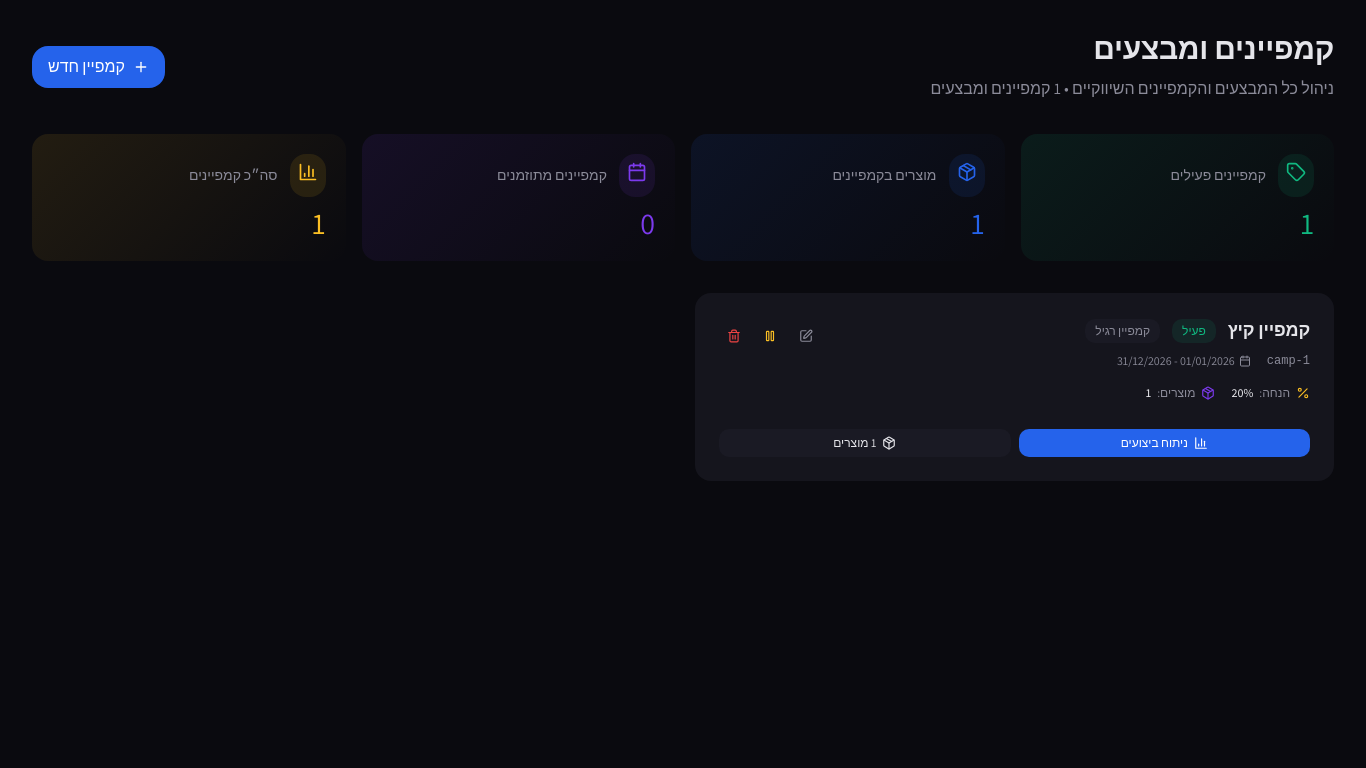
AdminCampaignsPage — Analytics modal (real, server-derived) › shows an error state when the analytics request fails
Expected: the heading "קמפיין קיץ" is shown, [1228, 317, 1310, 345]
What coordinates should you click on to do the following:
click the button "ניתוח ביצועים"
I would click on:
 (1164, 443)
Its box is [1018, 429, 1310, 457].
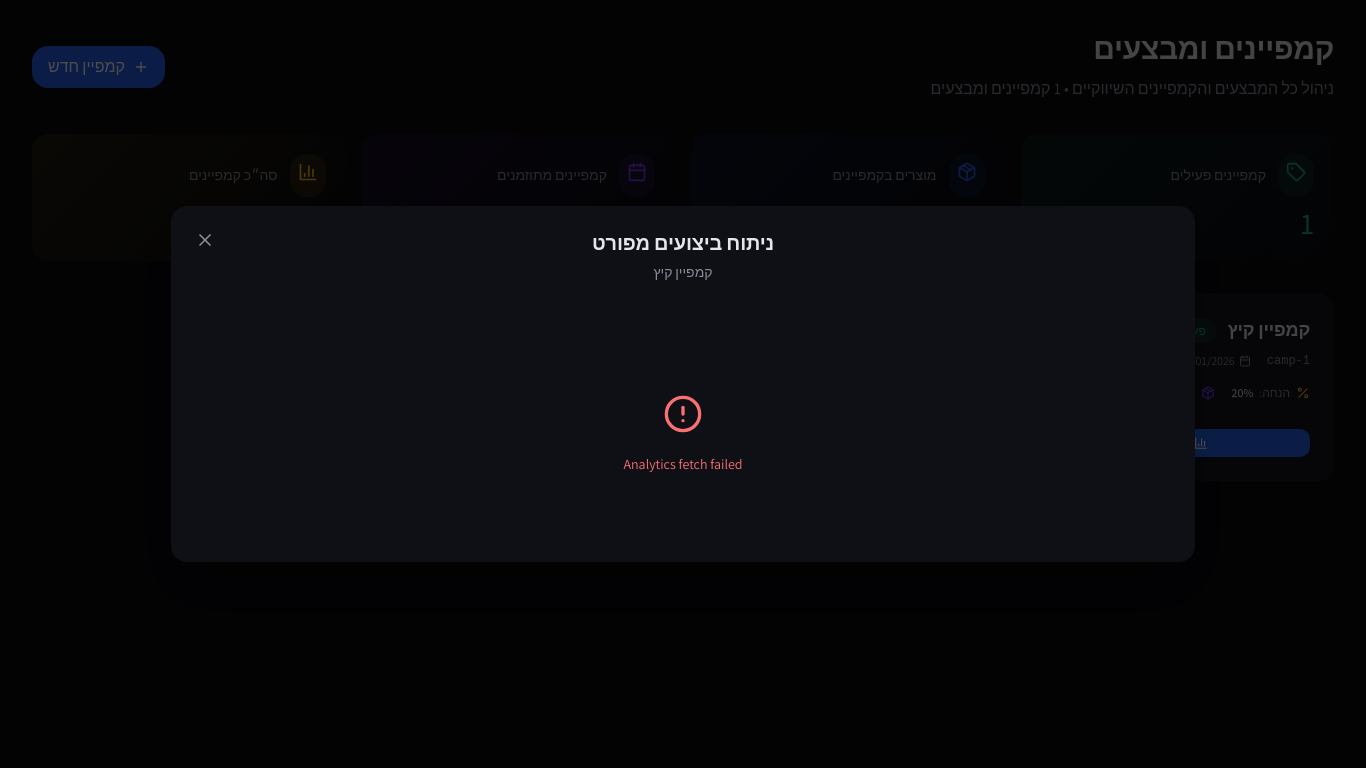
Expected: the text "Analytics fetch failed" is shown, [624, 455, 743, 473]
